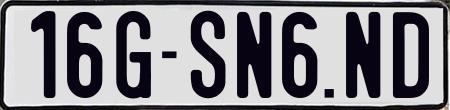1: (31, 10, 62, 100)
6: (280, 12, 321, 104), (64, 11, 103, 98)
D: (390, 11, 431, 98)
G: (115, 11, 151, 102)
N: (343, 9, 378, 97), (236, 9, 271, 96)
S: (189, 9, 225, 96)
